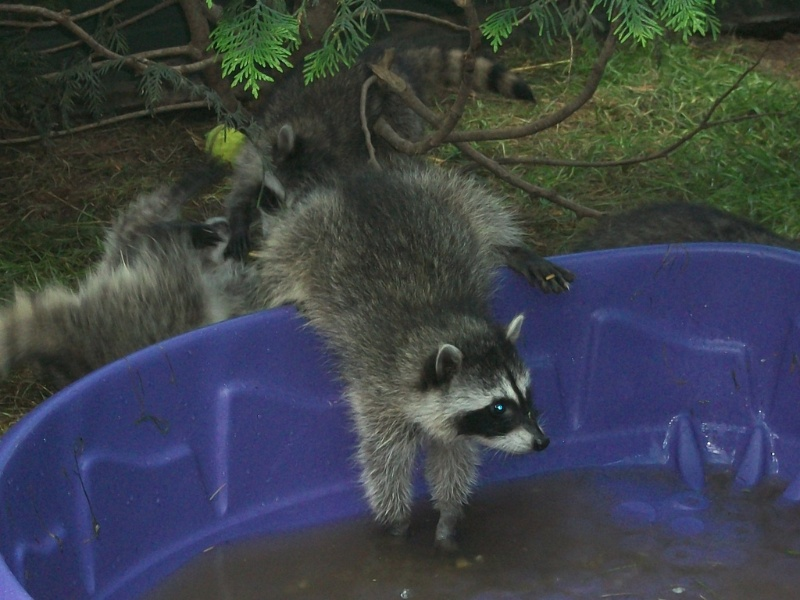raccoon: (271, 165, 584, 563), (224, 37, 534, 255)
